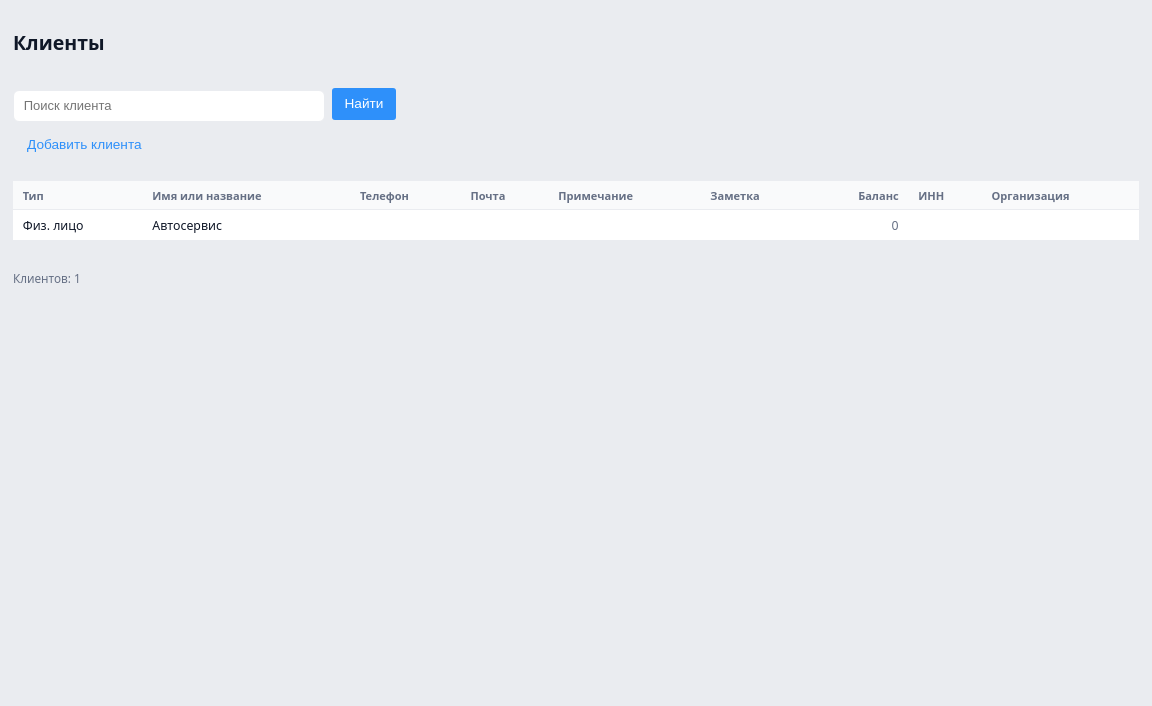
Test case: раздел «Клиенты» › карточка открывается на вкладке «Клиент», вкладки в заданном порядке
Click the text "Автосервис" at (246, 225), box [142,210,350,241]
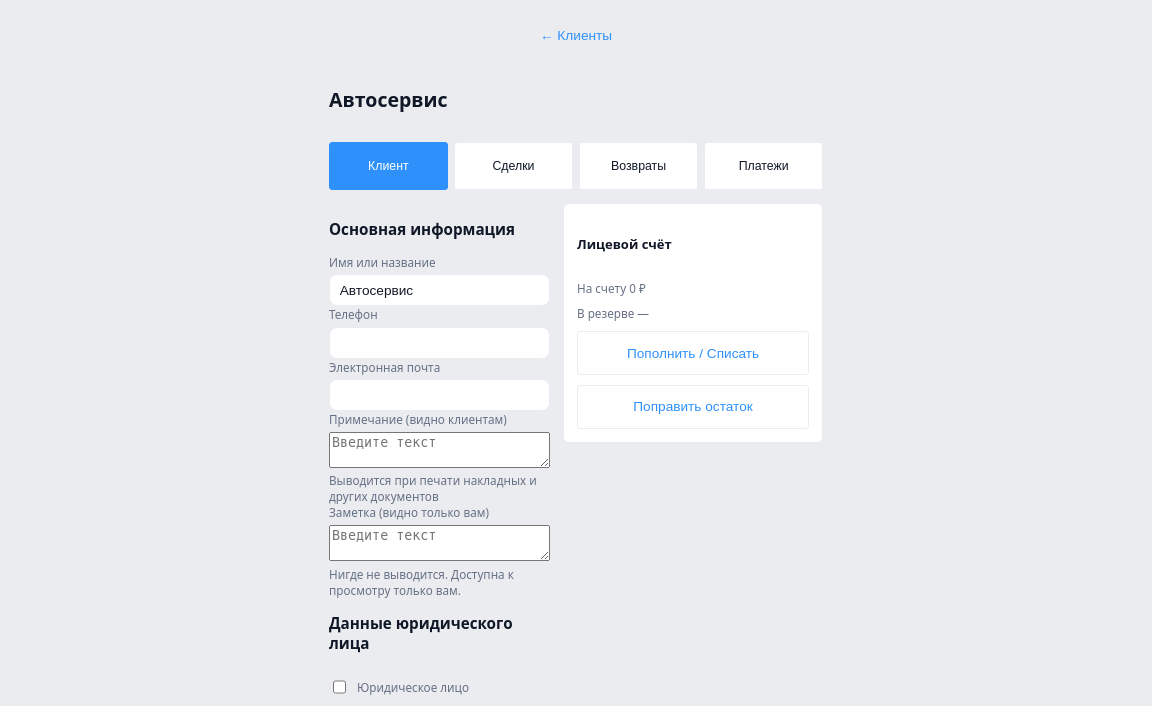
Now the heading "Автосервис" is shown, box [329,86,448,113]
Now the text "Выводится при печати накладных и других документов" is shown, box [329,472,550,504]
Now the text "Нигде не выводится. Доступна к просмотру только вам." is shown, box [329,566,514,598]
